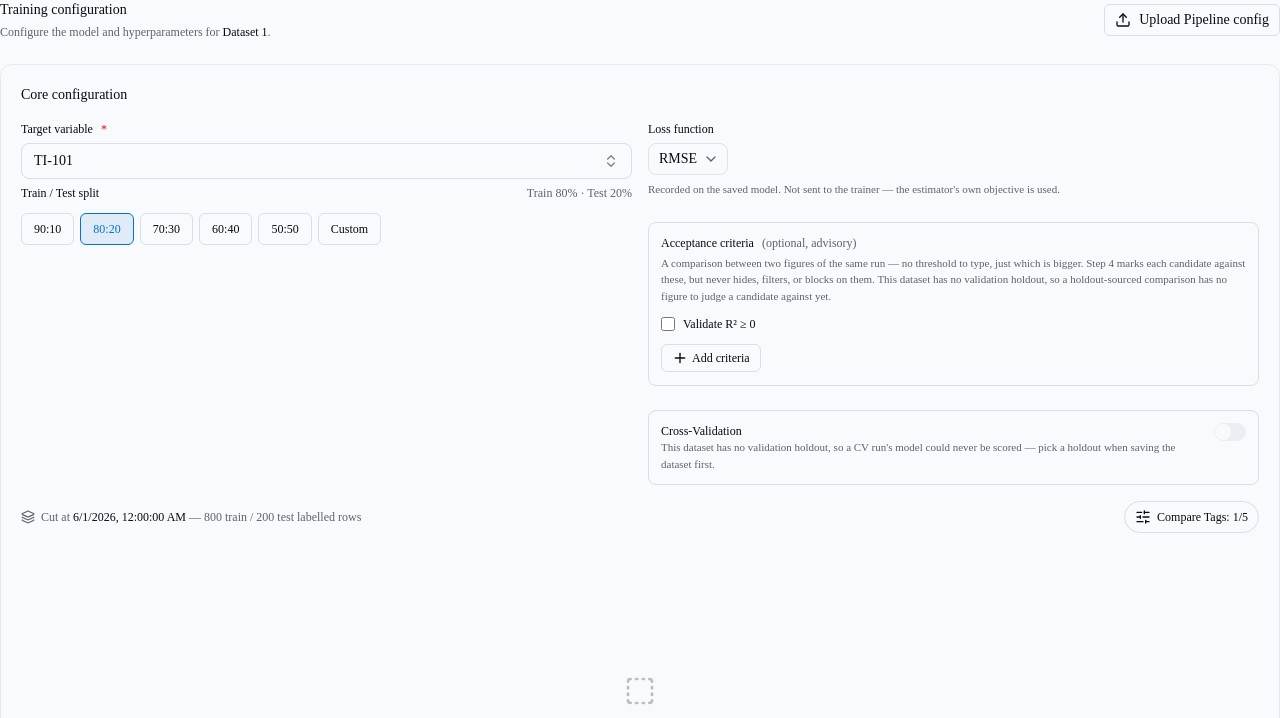
Scenario: Phase3TrainingConfig — V07: Apply gates the split-stats fetch and the relock › editing without applying leaves Start Training disabled and the applied split on screen
The width and height of the screenshot is (1280, 718).
Click the radio button labelled "70:30".
click(166, 229)  # box [140,213,193,245]
(page scrolled)
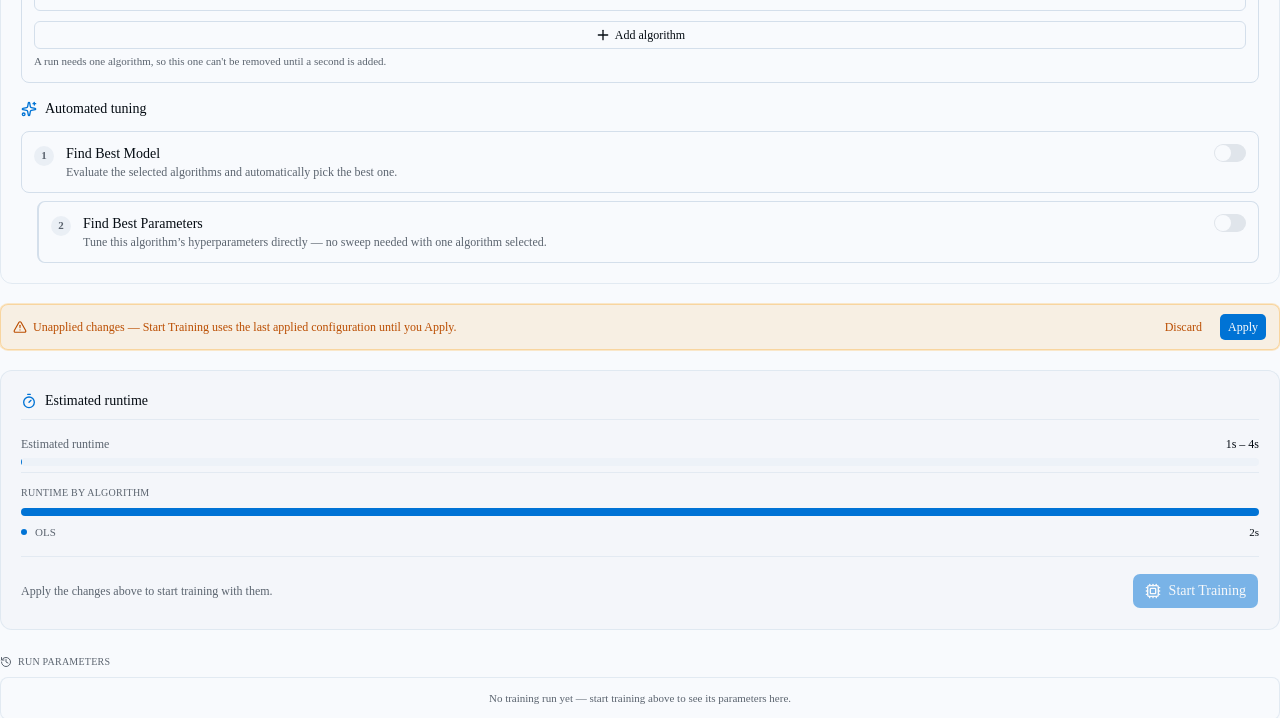
Check: the button "Start Training" is disabled, box [1132,573,1259,609]
